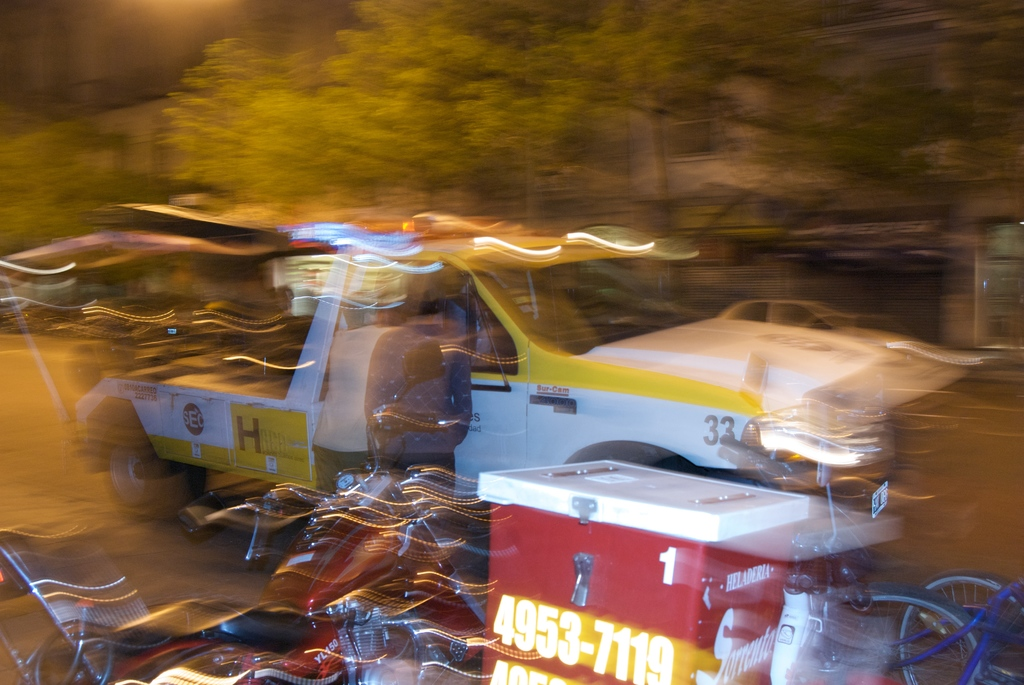Car: (71, 244, 965, 522)
